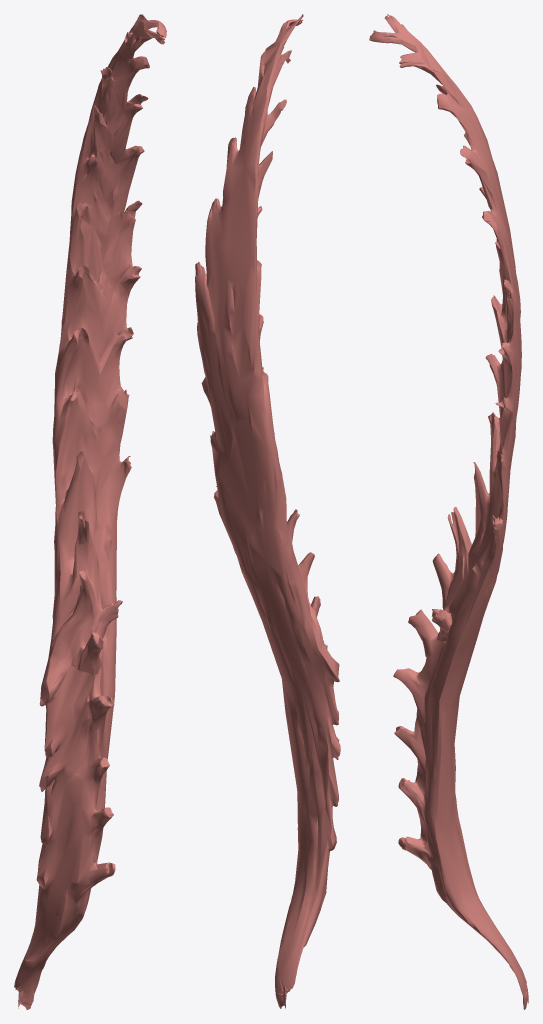
File: fma22753_fj1535m.glb
3 views of the same model, side by side, from view 1: azimuth 30°, elevation 25°; view 2: azimuth 150°, elevation 25°; view 3: azimuth 270°, elevation 25° (orthographic). The views are drawn at different scales.
Visible parts, largest first — view 1: FMA22753_FJ1535M; view 2: FMA22753_FJ1535M; view 3: FMA22753_FJ1535M.
Part boxes in pixels (x1,y1,x2,y2): FMA22753_FJ1535M: (14, 14, 166, 1009); FMA22753_FJ1535M: (195, 14, 340, 1008); FMA22753_FJ1535M: (369, 14, 528, 1009).
Bounding box in the file's own units: 0.0694 × 0.5214 × 0.0741.
